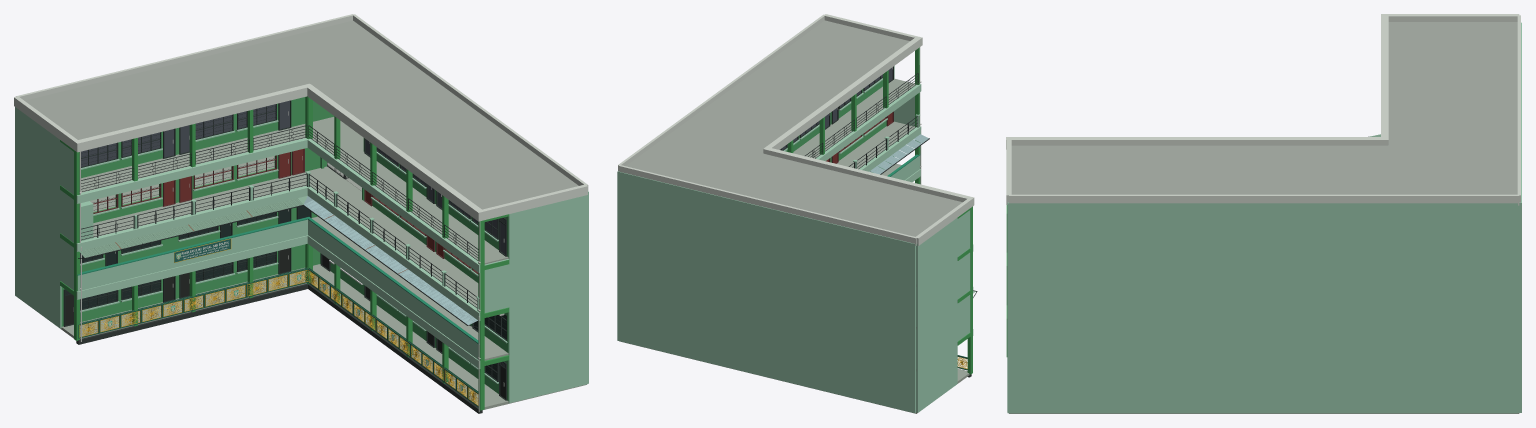
The model's file is gedung_perkuliahan_outdoor.glb.
The picture shows the model from 3 angles, left to right: view 1: azimuth 30°, elevation 25°; view 2: azimuth 150°, elevation 25°; view 3: azimuth 270°, elevation 25°; orthographic projection. The views are drawn at different scales.
Visible parts, largest first — view 1: Pelat_4_Sayap_B, Pelat_4_Sayap_A, Pelat_4_Sudut, Pelat_2_Sayap_A, B_L0_Dinding_ujung_ruang, B_L1_Dinding_ujung_ruang, B_L2_Dinding_ujung_ruang, B_L3_Dinding_ujung_ruang, Pelat_3_B_lubang_tangga_0, A_L1_Parapet_padat, Pelat_0_Sayap_B, Pelat_2_B_lubang_tangga_0 (+40 smaller); view 2: Sudut_Dinding_belakang_Y, Pelat_4_Sayap_B, Pelat_4_Sayap_A, A_L3_Dinding_luar_belakang, A_L1_Dinding_luar_belakang, A_L2_Dinding_luar_belakang, A_L0_Dinding_luar_belakang, Pelat_4_Sudut, Lis_atap_A_belakang, B_Lis_atap, Pelat_3_B_lubang_tangga_0, A_L1_Dinding_ujung_ruang (+15 smaller); view 3: Sudut_Dinding_belakang_X, B_L0_Dinding_luar_belakang, B_L2_Dinding_luar_belakang, B_L3_Dinding_luar_belakang, B_L1_Dinding_luar_belakang, Pelat_4_Sayap_B, Pelat_4_Sayap_A, Pelat_4_Sudut, Lis_atap_B_belakang, B_Lis_atap, Lis_atap_A_ujung, A_Lis_atap (+2 smaller).
Boxes of the visible parts, box(x1,y1,x2,y2) form: Pelat_4_Sayap_B: box(317, 65, 578, 209); Pelat_4_Sayap_A: box(24, 46, 301, 139); Pelat_4_Sudut: box(248, 20, 413, 88); Pelat_2_Sayap_A: box(90, 157, 306, 237); B_L0_Dinding_ujung_ruang: box(508, 336, 587, 403); B_L1_Dinding_ujung_ruang: box(508, 288, 587, 355); B_L2_Dinding_ujung_ruang: box(509, 240, 587, 307); B_L3_Dinding_ujung_ruang: box(508, 195, 587, 259); Pelat_3_B_lubang_tangga_0: box(340, 152, 508, 264); A_L1_Parapet_padat: box(77, 219, 307, 291); Pelat_0_Sayap_B: box(312, 276, 586, 410); Pelat_2_B_lubang_tangga_0: box(339, 200, 478, 307); Sudut_Dinding_belakang_Y: box(617, 171, 711, 363); Pelat_4_Sayap_B: box(674, 20, 909, 151); Pelat_4_Sayap_A: box(718, 154, 962, 236); A_L3_Dinding_luar_belakang: box(711, 194, 915, 286); A_L1_Dinding_luar_belakang: box(711, 279, 915, 370); A_L2_Dinding_luar_belakang: box(711, 237, 915, 328); A_L0_Dinding_luar_belakang: box(711, 321, 915, 413); Pelat_4_Sudut: box(626, 130, 764, 188); Lis_atap_A_belakang: box(618, 165, 916, 245); B_Lis_atap: box(763, 36, 922, 152); Pelat_3_B_lubang_tangga_0: box(793, 78, 915, 158); A_L1_Dinding_ujung_ruang: box(916, 299, 957, 370); Sudut_Dinding_belakang_X: box(1383, 203, 1517, 413); B_L0_Dinding_luar_belakang: box(1007, 360, 1383, 413); B_L2_Dinding_luar_belakang: box(1007, 255, 1383, 308); B_L3_Dinding_luar_belakang: box(1007, 202, 1383, 255); B_L1_Dinding_luar_belakang: box(1007, 308, 1383, 360); Pelat_4_Sayap_B: box(1011, 145, 1384, 194); Pelat_4_Sayap_A: box(1388, 22, 1517, 144); Pelat_4_Sudut: box(1385, 144, 1517, 194); Lis_atap_B_belakang: box(1009, 194, 1519, 205); B_Lis_atap: box(1006, 137, 1387, 149); Lis_atap_A_ujung: box(1385, 14, 1519, 21); A_Lis_atap: box(1381, 14, 1388, 145).
Size of the model in its own units: 25.67 by 14.55 by 30.71.
Materials: 75 (1 with a texture image).
